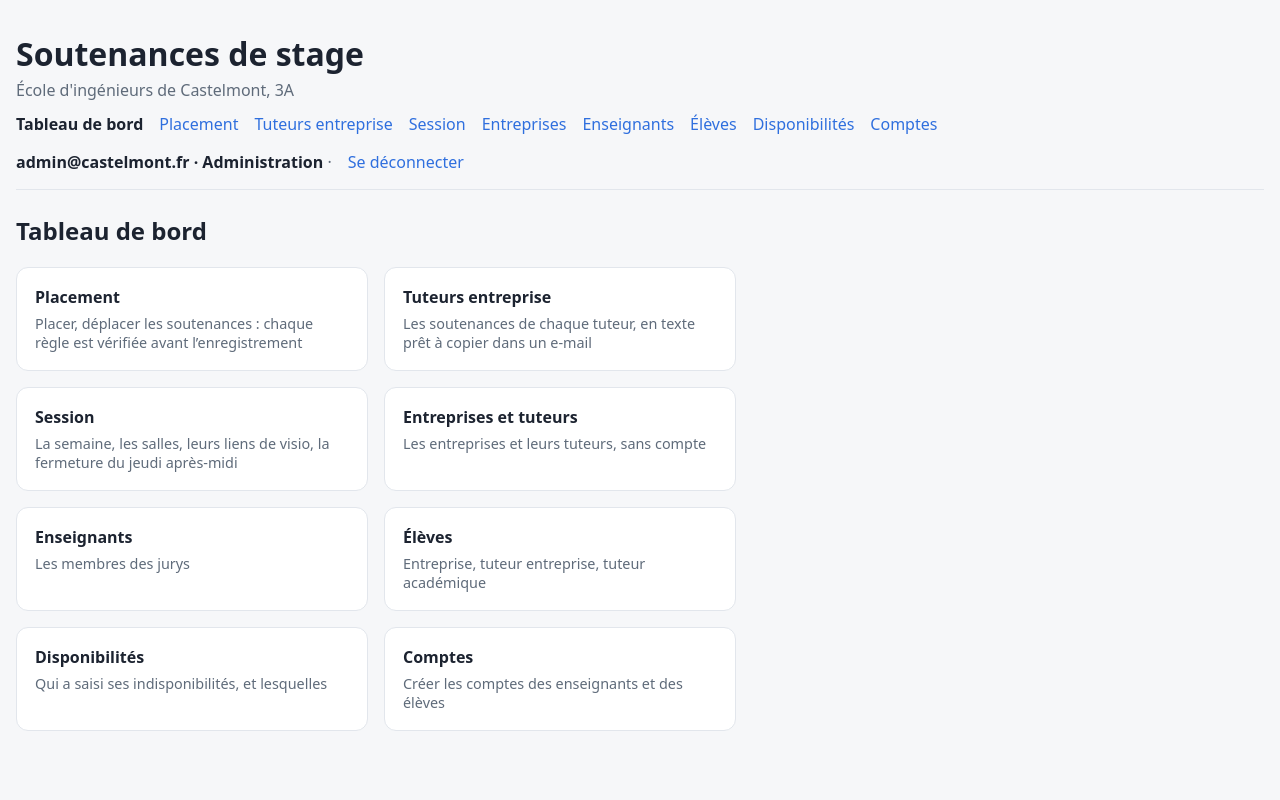
it: Header › logs out on a click on "Se déconnecter"
The width and height of the screenshot is (1280, 800).
Click the button "Se déconnecter" at (406, 162), box [348,151,464,173]
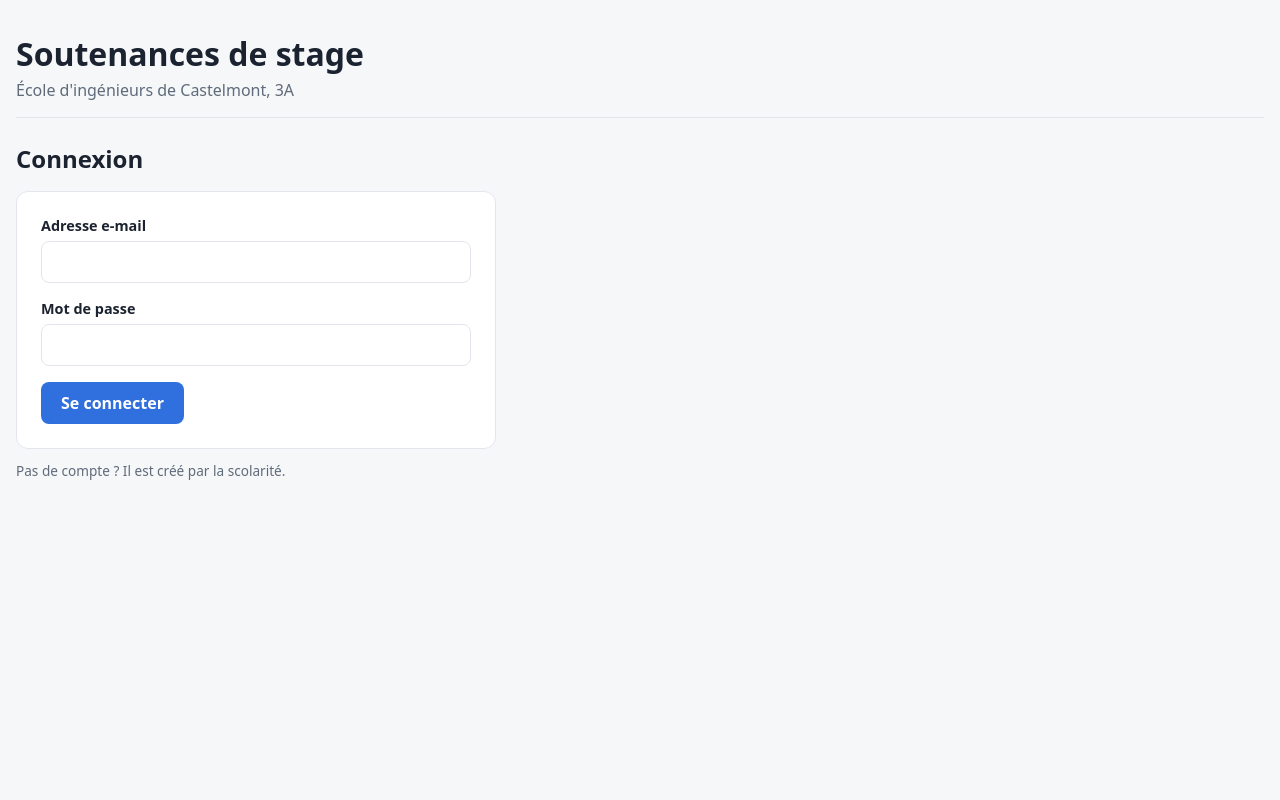
expect the heading "Connexion" is shown: met, box [16,142,143,175]
